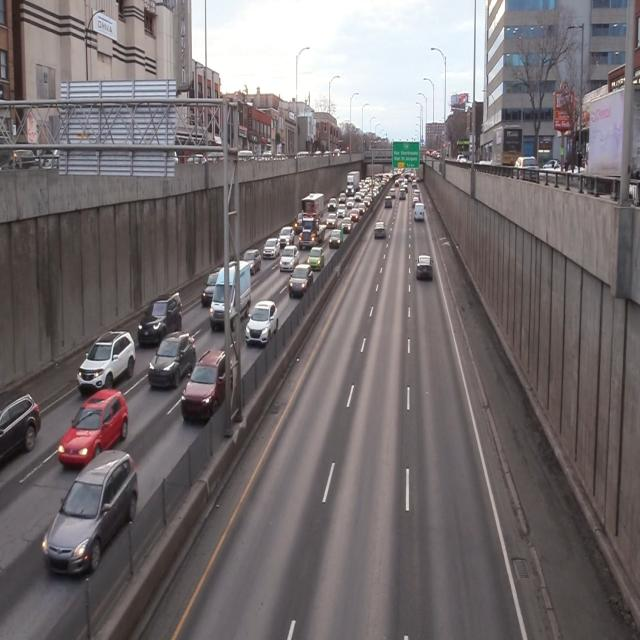Car: (46, 447, 142, 571), (57, 395, 132, 463), (180, 344, 239, 426), (79, 329, 138, 395), (207, 260, 250, 338), (137, 289, 187, 346), (150, 326, 193, 388), (243, 298, 282, 354), (288, 262, 314, 300), (418, 255, 434, 282), (374, 218, 388, 241)
